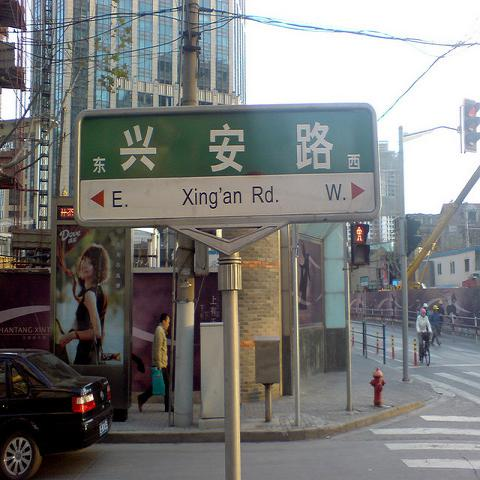car: (1, 347, 113, 475)
